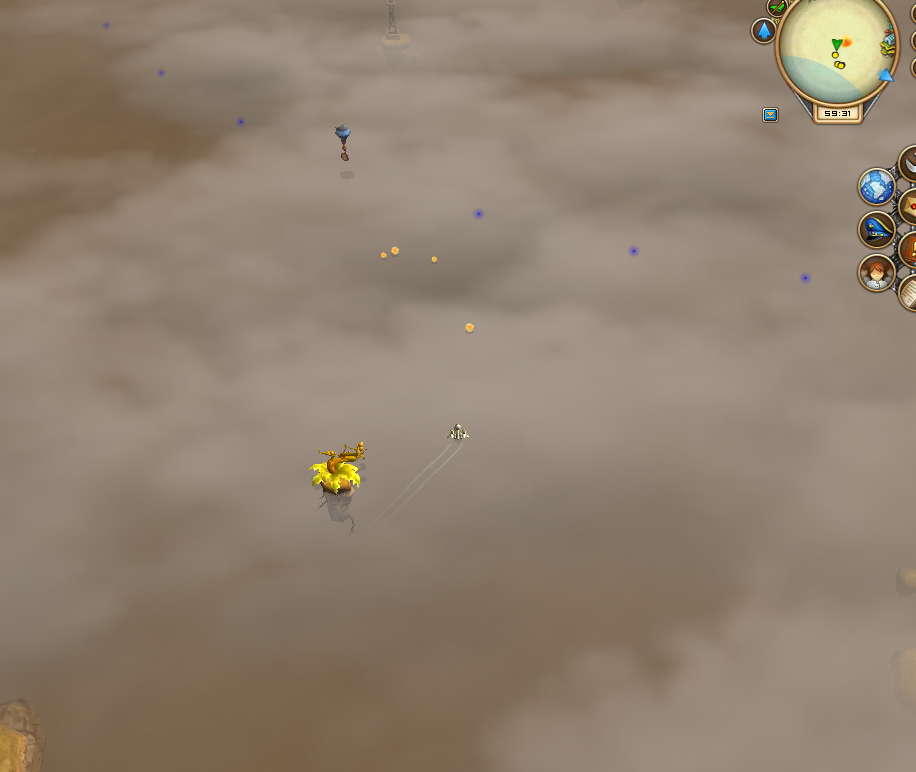dandelion-empty: (307, 436, 372, 535)
fluff: (460, 315, 480, 337), (388, 242, 402, 258), (426, 250, 440, 264), (378, 249, 386, 262)
